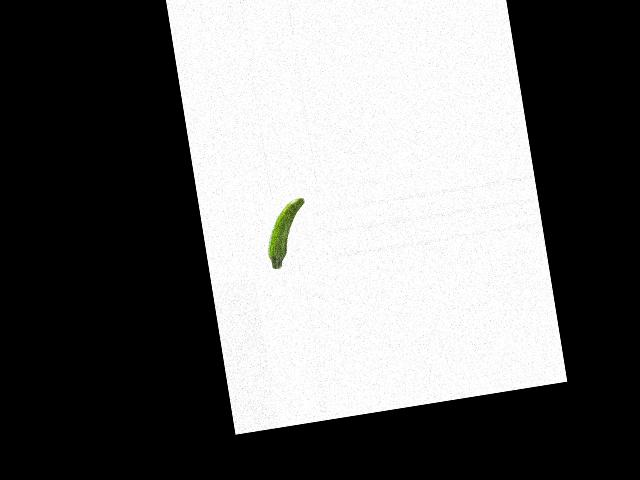cucumber: (260, 197, 315, 270)
